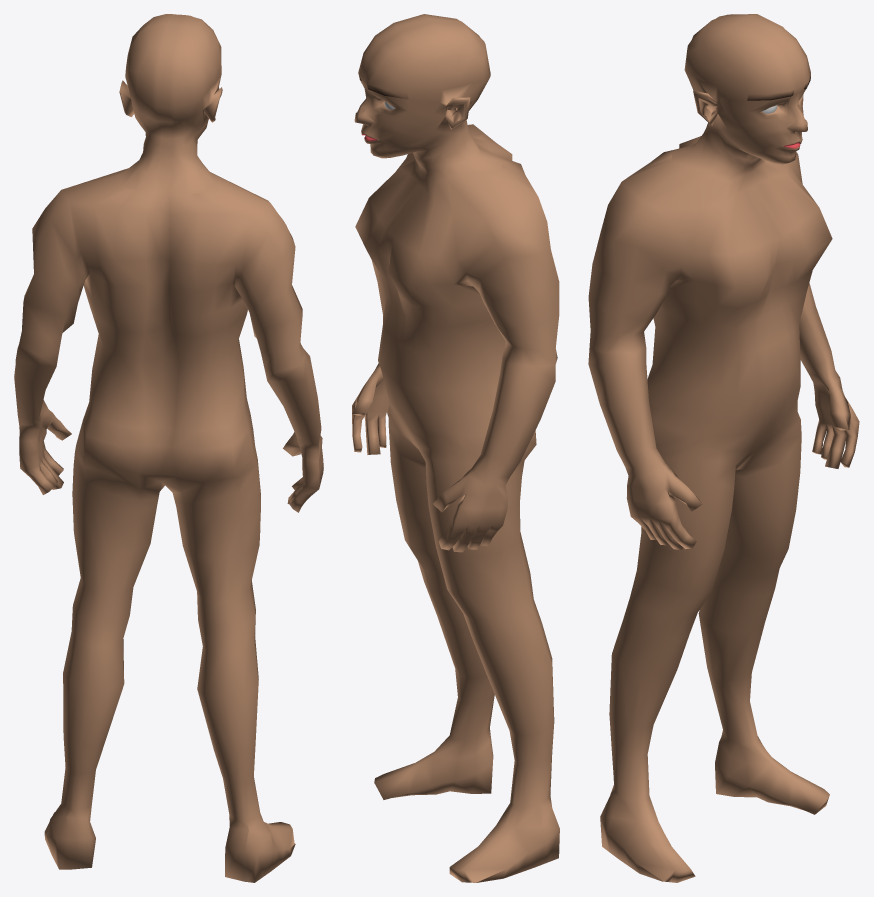
Rendered from boneco22.glb.
3 renders of one model, left to right at view 1: azimuth 30°, elevation 25°; view 2: azimuth 150°, elevation 25°; view 3: azimuth 270°, elevation 25°, orthographic.
Parts seen in each view (by area): view 1: Plane.023; view 2: Plane.023; view 3: Plane.023.
Part boxes in pixels (x1,y1,x2,y2): Plane.023: [14, 14, 323, 882]; Plane.023: [352, 14, 559, 882]; Plane.023: [588, 14, 859, 882].
Size of the model in its own units: 1.14 by 3.47 by 1.04.
